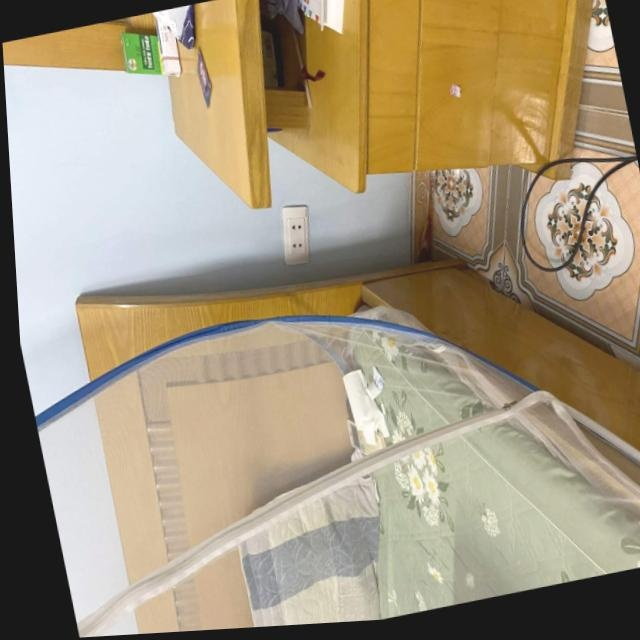outlet: (273, 201, 319, 268)
